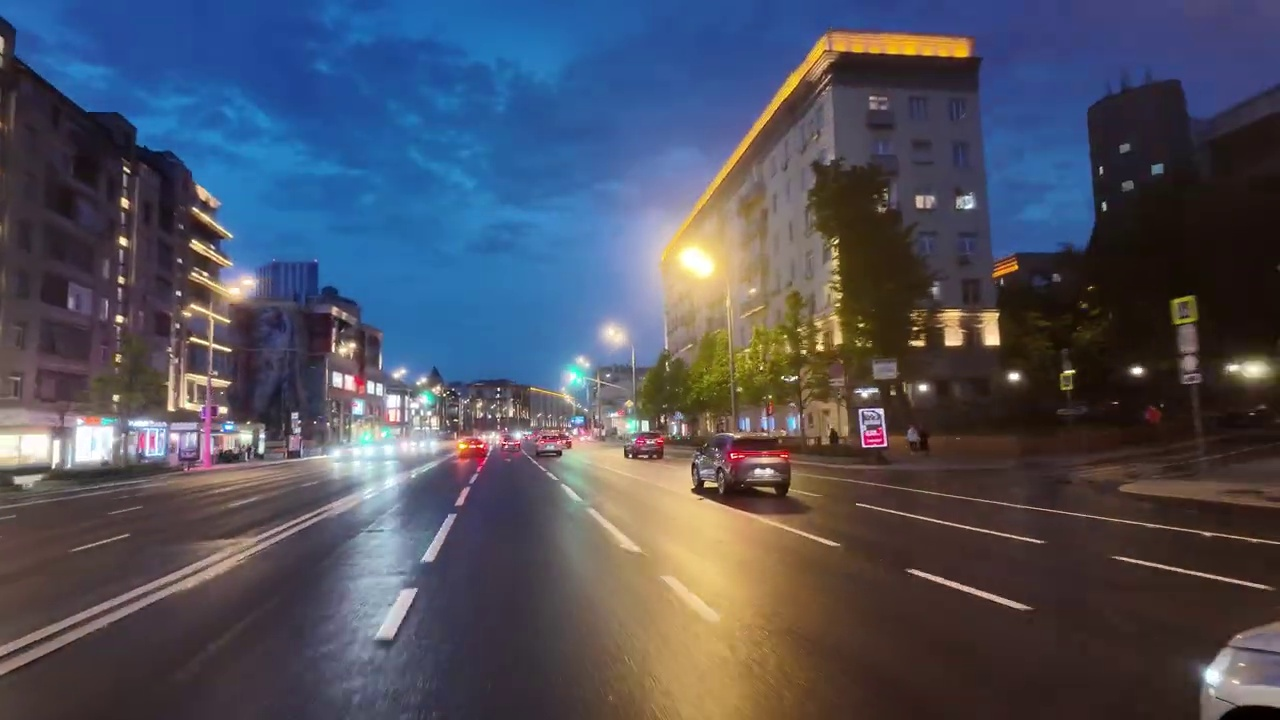acesa: (671, 241, 720, 286), (602, 322, 627, 346)
